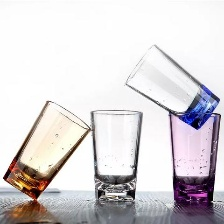glass: (0, 94, 92, 207), (117, 33, 224, 128), (83, 102, 148, 212), (165, 105, 223, 206)
